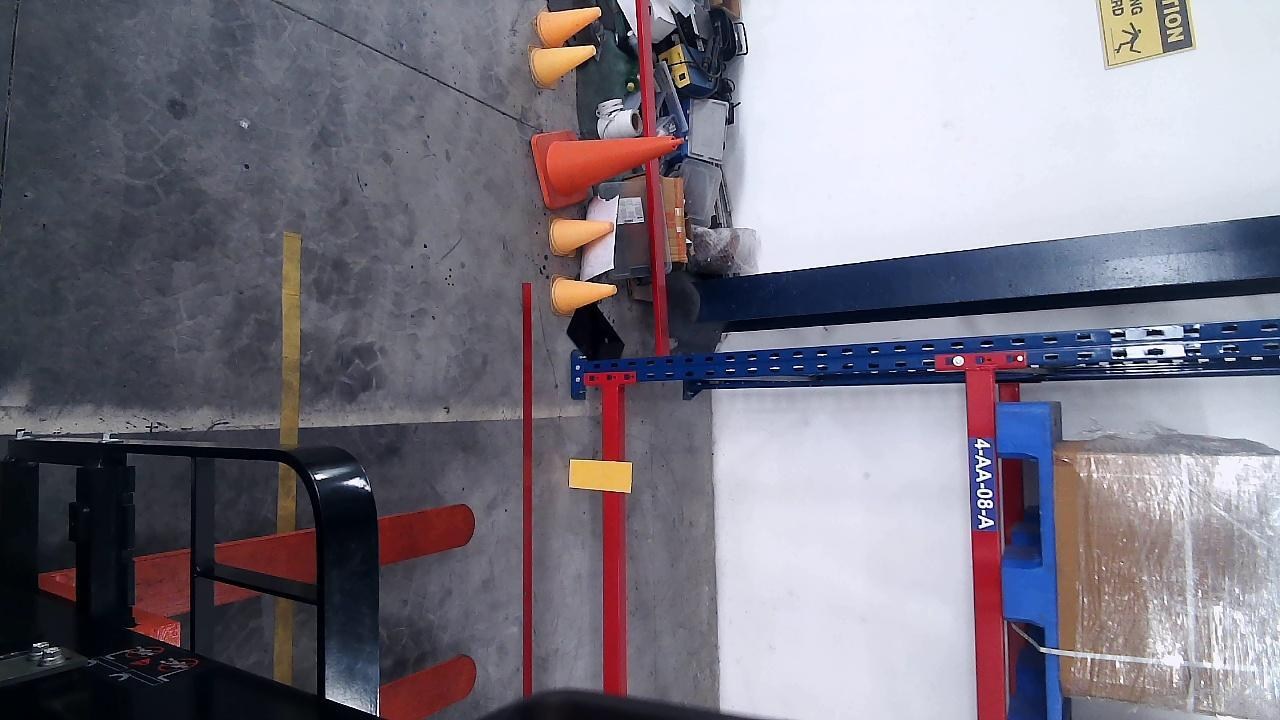h_rack: (965, 368, 1008, 719), (603, 384, 626, 692)
orange_strip: (567, 460, 630, 492)
red_line: (523, 282, 534, 697)
small_pallet: (998, 405, 1063, 719)
yellow_line: (278, 233, 302, 684)
